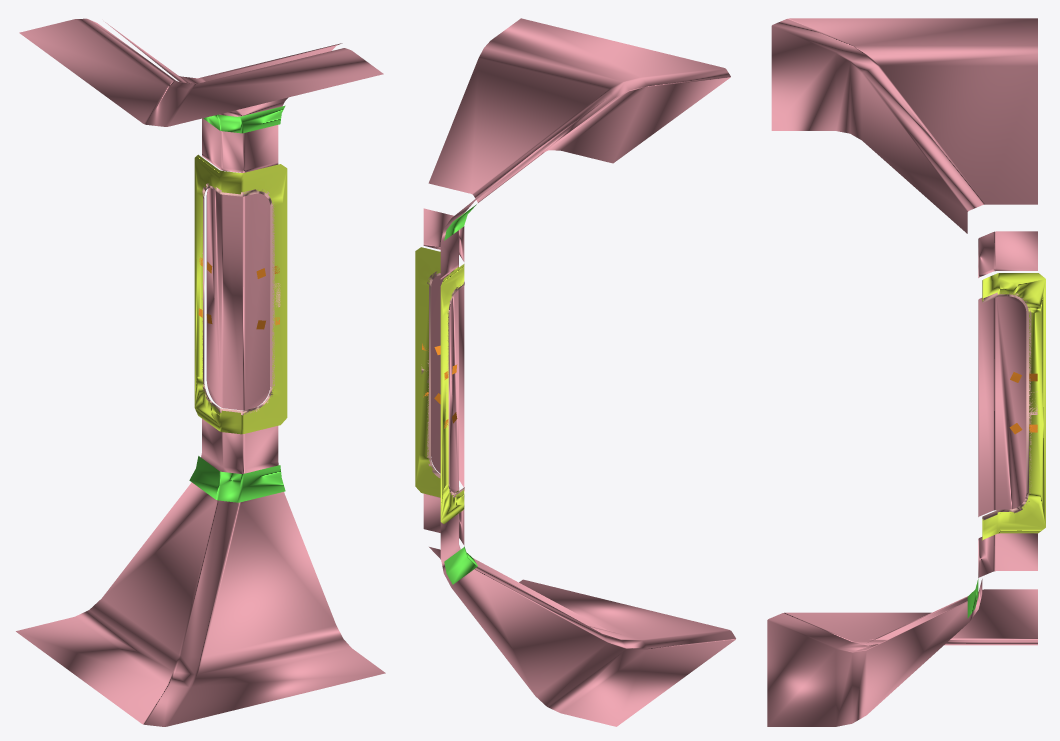
Rendered from ext_roomsm_wall_cornerin_addon_02x02x04_a.glb.
The picture shows the model from 3 angles, left to right: view 1: azimuth 30°, elevation 25°; view 2: azimuth 150°, elevation 25°; view 3: azimuth 270°, elevation 25°; orthographic projection. The views are drawn at different scales.
Bounding box in the file's own units: 1.72 × 4.07 × 1.72.
